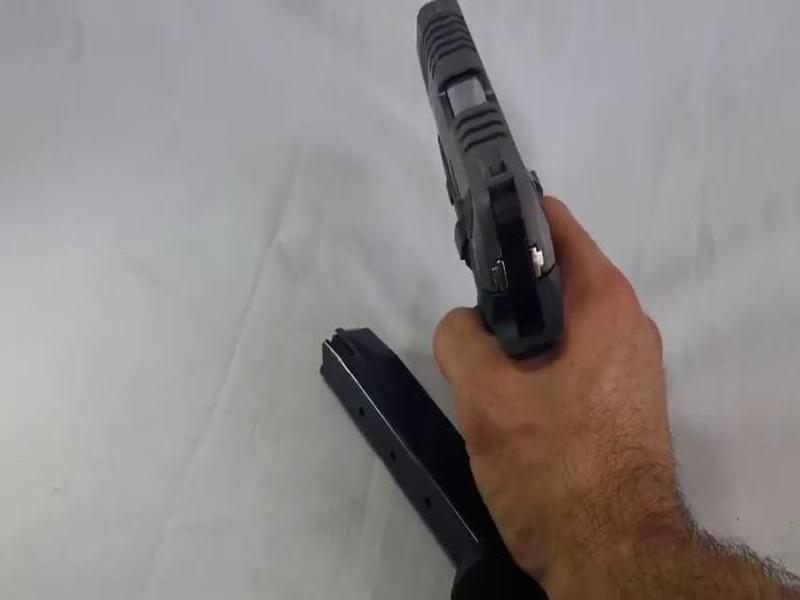Pistola: (347, 1, 605, 378)
